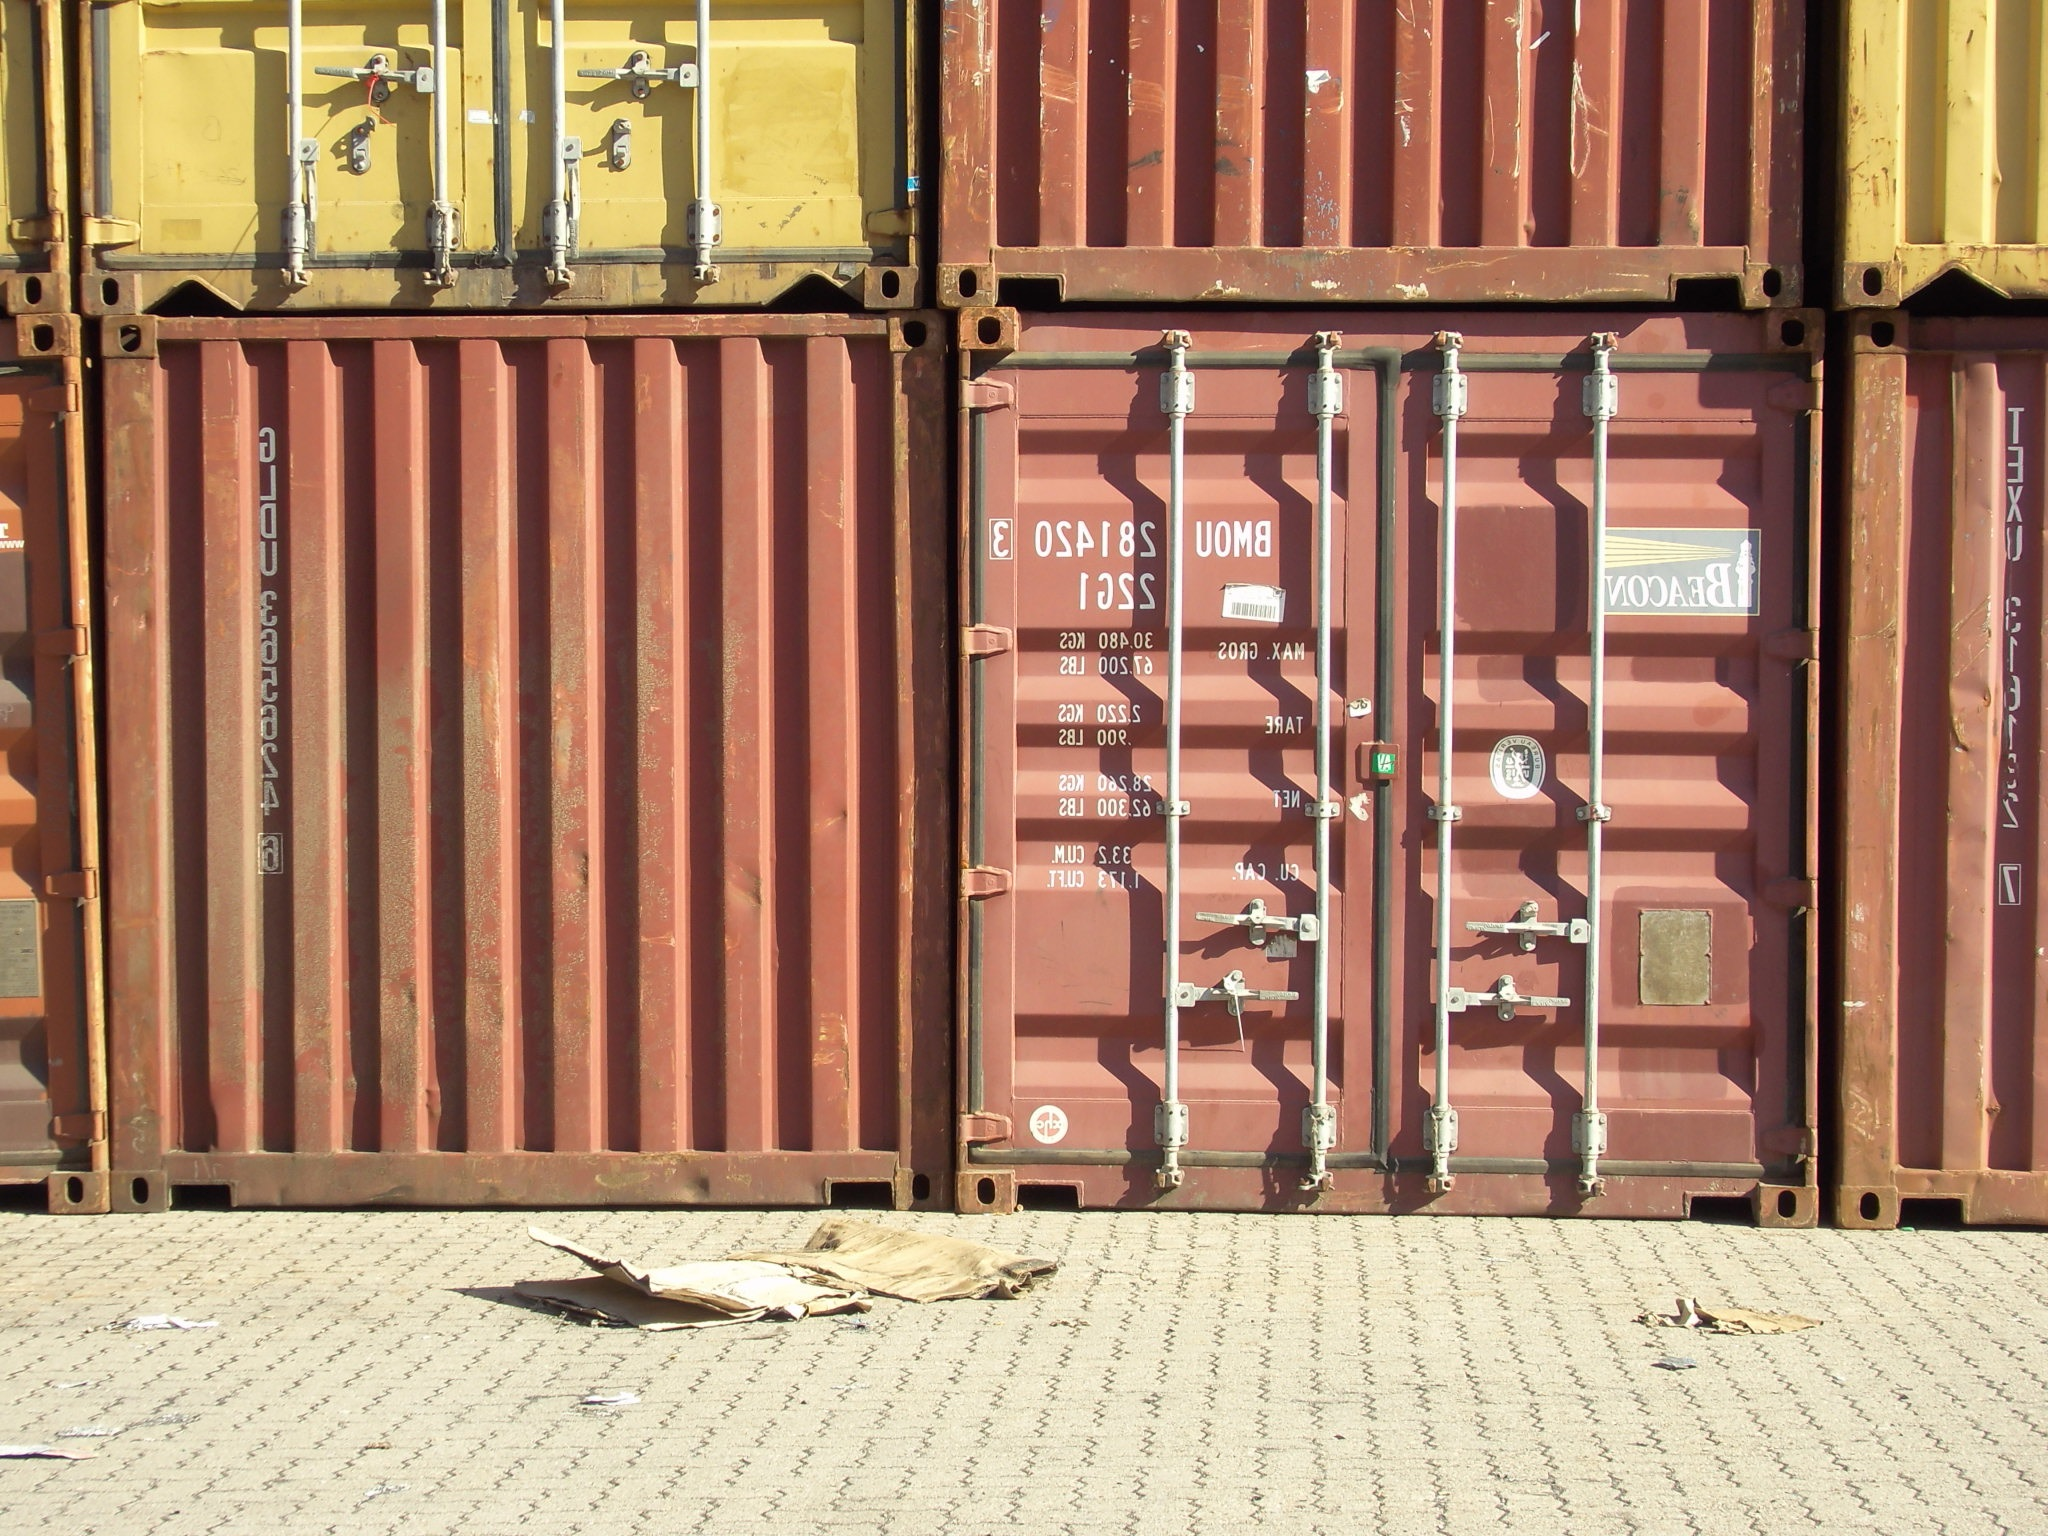container_door: (951, 303, 1834, 1207), (48, 2, 918, 310)
container_no_door: (124, 319, 935, 1207), (937, 2, 1814, 303)
